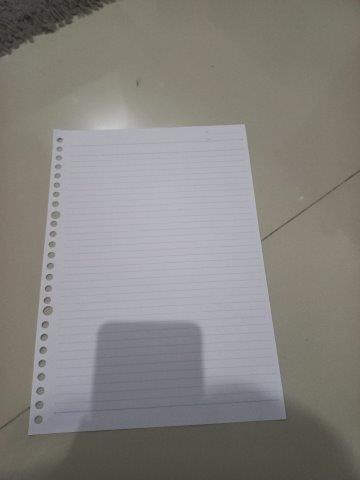kertas: (28, 123, 287, 437)
